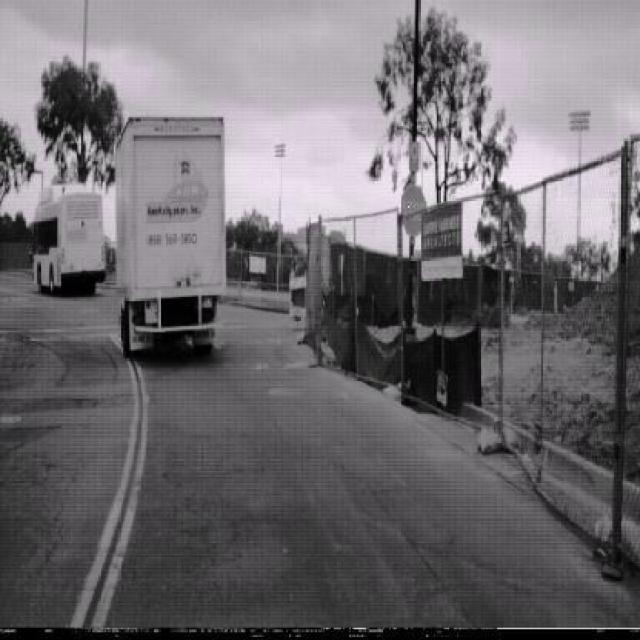stop: (400, 181, 428, 237)
